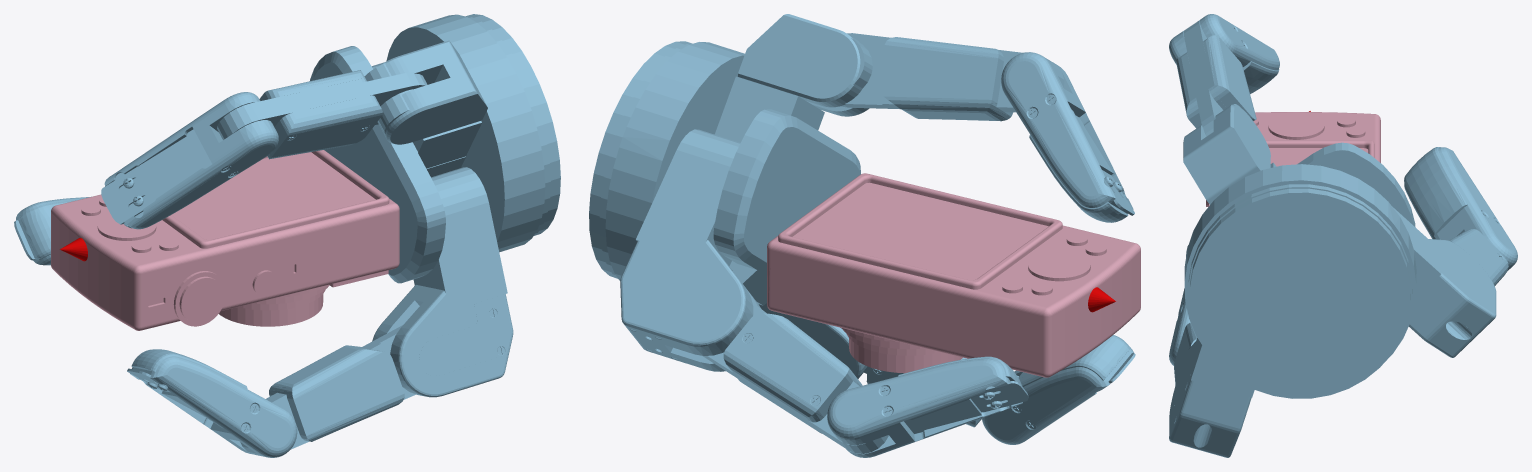
3 views of the same model, side by side, from view 1: azimuth 30°, elevation 25°; view 2: azimuth 150°, elevation 25°; view 3: azimuth 270°, elevation 25° (orthographic). The views are drawn at different scales.
Parts seen in each view (by area): view 1: world, camera.stl; view 2: world, camera.stl; view 3: world, camera.stl.
Part boxes in pixels (box(x1,y1,x2,y2)): world: box(14, 14, 560, 457); camera.stl: box(51, 150, 399, 330); world: box(589, 14, 1135, 457); camera.stl: box(767, 173, 1140, 377); world: box(1169, 14, 1517, 457); camera.stl: box(1206, 112, 1380, 206).
Size of the model in its own units: 0.1892 by 0.1486 by 0.1338.
